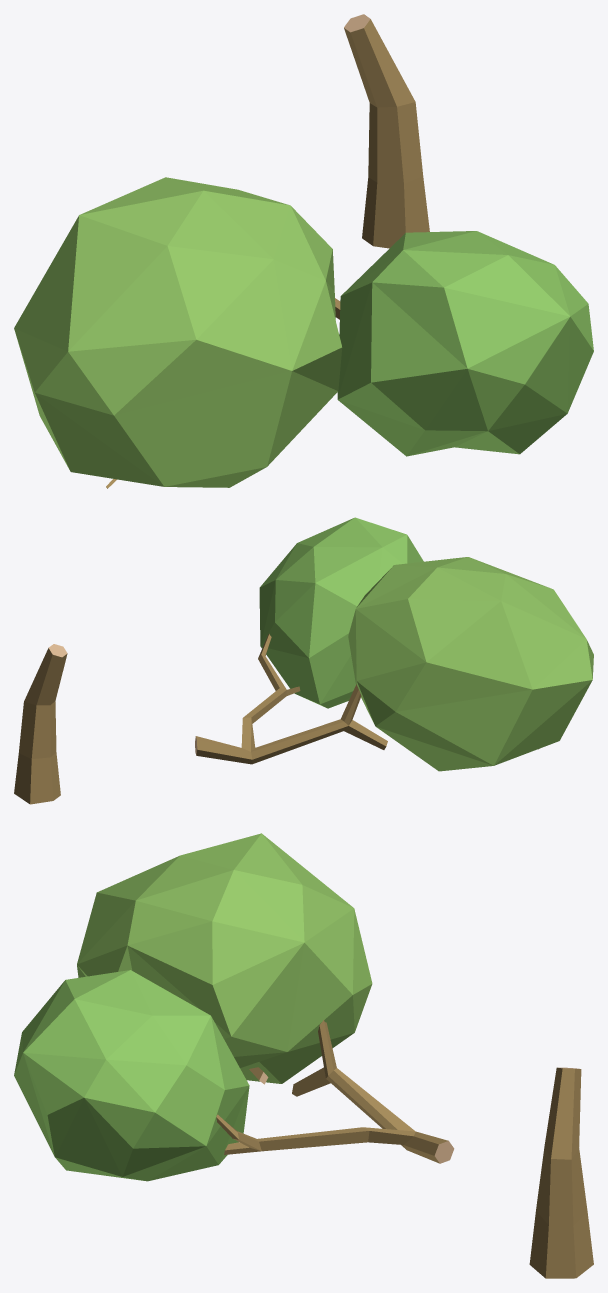
Rendered from Oak_Tree_crk_m_03_LOD.fbx.
3 renders of one model, top to bottom at view 1: azimuth 30°, elevation 25°; view 2: azimuth 150°, elevation 25°; view 3: azimuth 270°, elevation 25°, orthographic. The views are drawn at different scales.
Parts seen in each view (by area): view 1: Oak_Tree_crk_m_03_LOD0; view 2: Oak_Tree_crk_m_03_LOD0; view 3: Oak_Tree_crk_m_03_LOD0.
Part boxes in pixels (box(x1,y1,x2,y2)): Oak_Tree_crk_m_03_LOD0: box(14, 14, 593, 488); Oak_Tree_crk_m_03_LOD0: box(14, 517, 593, 804); Oak_Tree_crk_m_03_LOD0: box(14, 833, 593, 1278).
Size of what is drawn, in the model's own units: 712 by 313 by 691.
